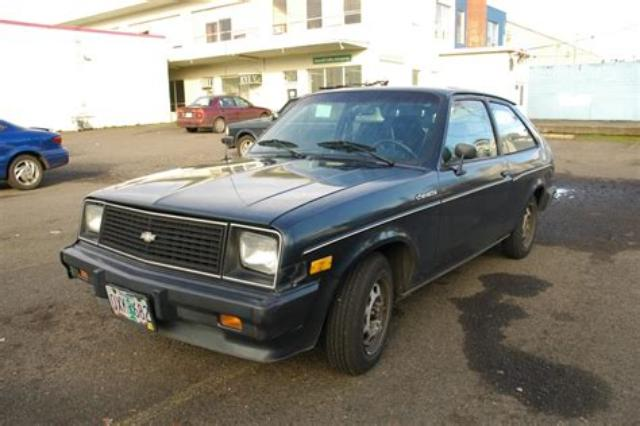chevette-1983: (59, 86, 555, 374)
